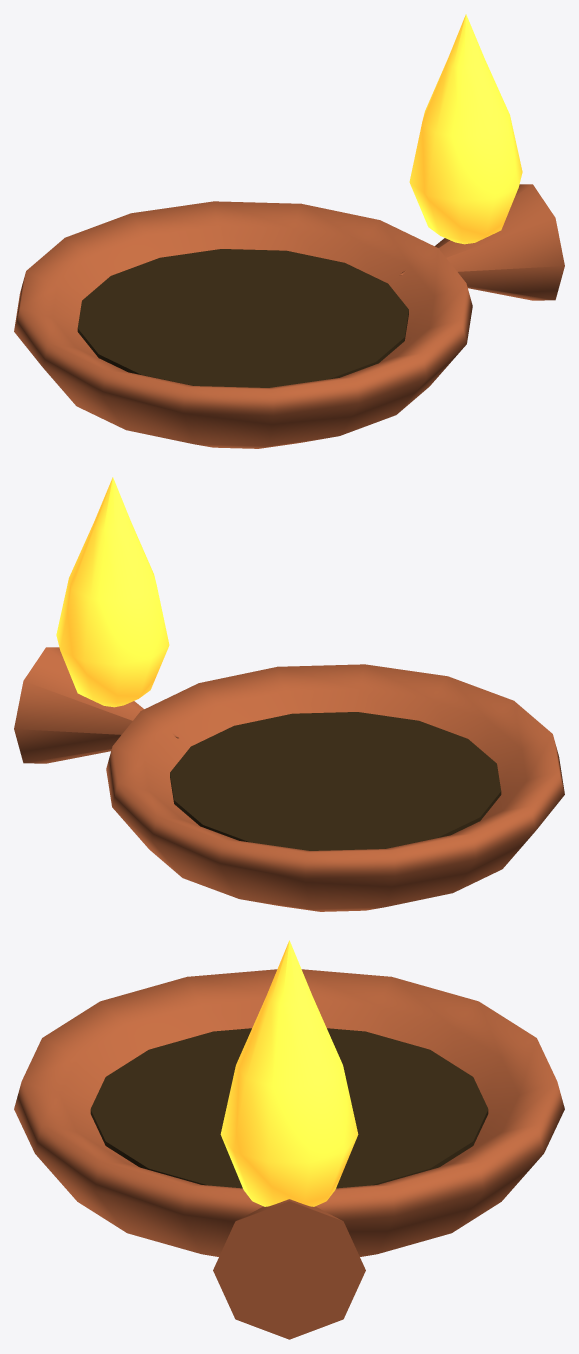
The model's file is mbs.diya-lamp.glb.
The picture shows the model from 3 angles, top to bottom: view 1: azimuth 30°, elevation 25°; view 2: azimuth 150°, elevation 25°; view 3: azimuth 270°, elevation 25°; orthographic projection. The views are drawn at different scales.
Visible parts, largest first — view 1: Diya Lamp; view 2: Diya Lamp; view 3: Diya Lamp.
Part boxes in pixels (<box>): Diya Lamp: <box>14,14,564,448</box>; Diya Lamp: <box>14,477,564,911</box>; Diya Lamp: <box>14,940,564,1339</box>.
Bounding box in the file's own units: 0.44 × 0.285 × 0.36.
